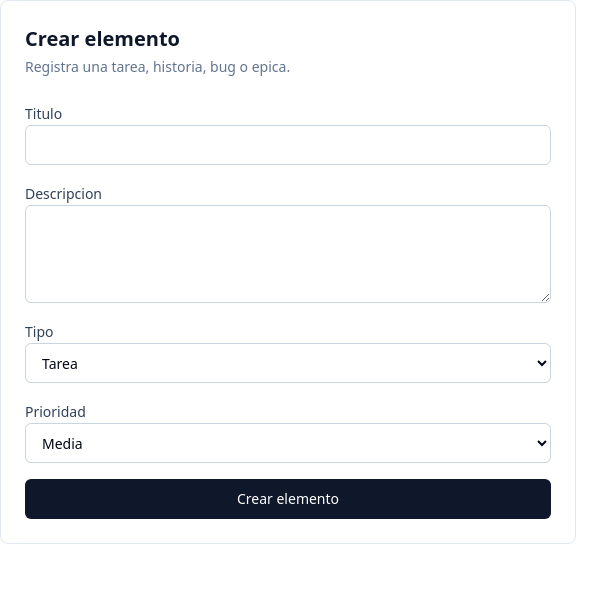
CreateWorkItemForm › muestra la referencia creada y notifica al contenedor
Type "Implementar login" into the field labelled "Titulo" at [288, 145], box [25,125,551,165]
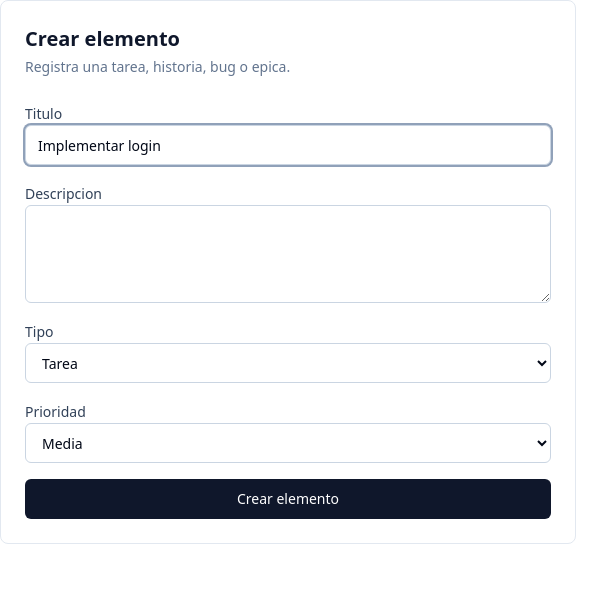
Click the button "Crear elemento" at [288, 499], box [25,479,551,519]
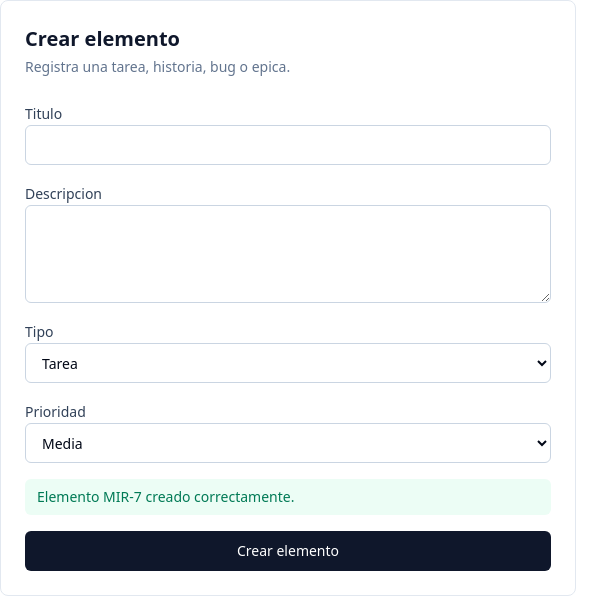
Now the message reads "Elemento MIR-7 creado correctamente.", box [25,479,551,515]
